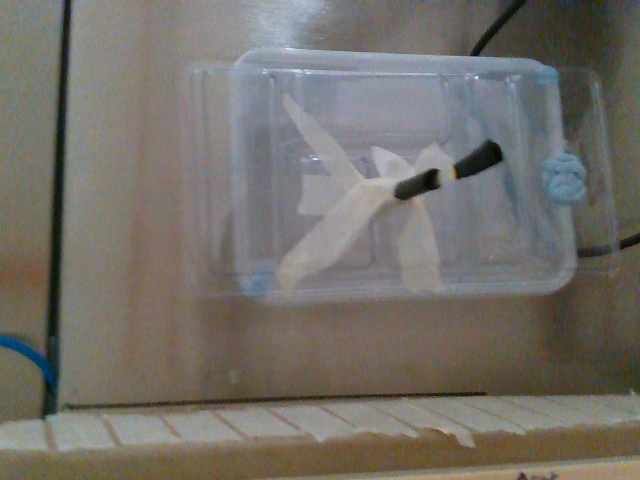test_strip: (438, 138, 503, 187)
